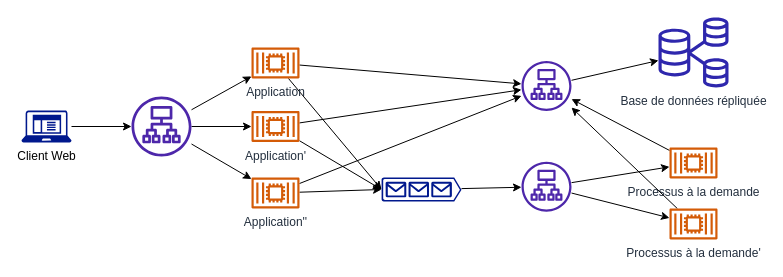
This 783x277 diagram has some shape labels left out. Each missing label, with the box of its shape:
Distributeur de tâches: (521, 161, 571, 211)
File de message: (381, 177, 461, 201)
Équilibreur de charge: (131, 96, 191, 156)
Équilibreur de charge bd: (521, 60, 571, 110)
